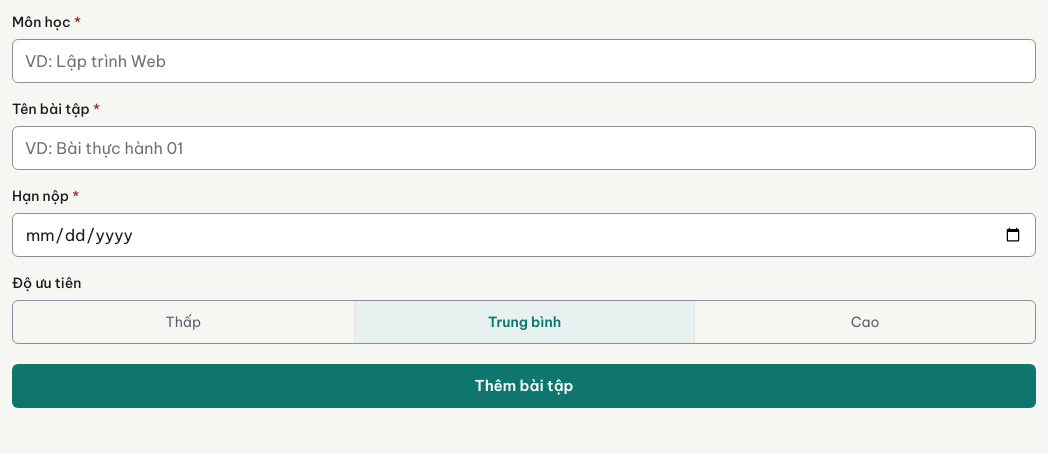
Test: AssignmentForm › submit hợp lệ: thêm bài vào store (đã trim), xoá trắng form, báo đã thêm
The image size is (1048, 454).
Step 1. Type "  Lập trình Web  " into the field labelled "Môn học *" → (524, 61), box [12,39,1036,83]
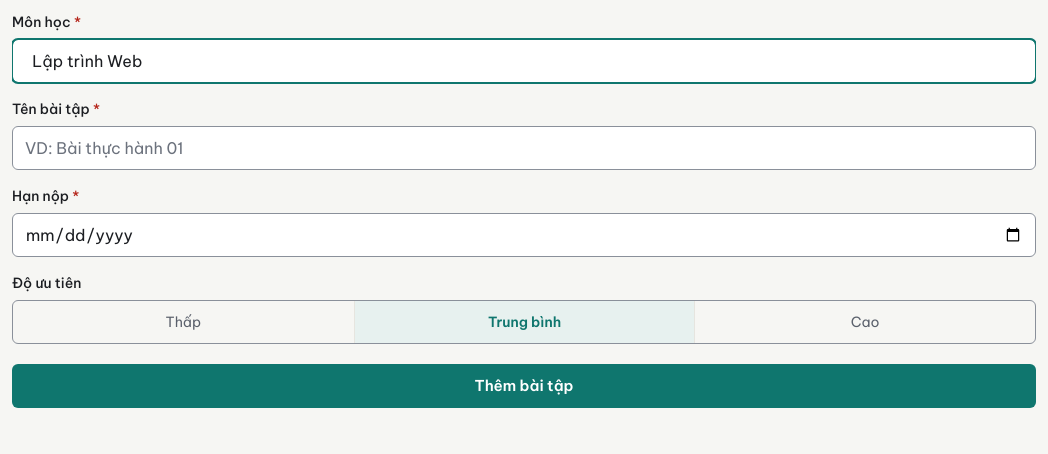
Step 2. Type "Bài thực hành 02" into the field labelled "Tên bài tập *" → (524, 148), box [12,126,1036,170]
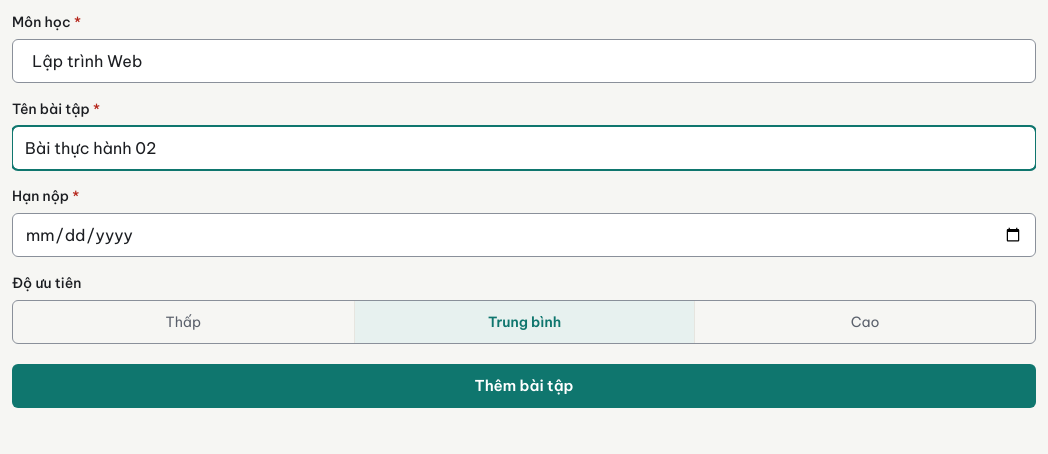
Step 3. Type "2026-12-01" into the date field labelled "Hạn nộp *" → (524, 235), box [12,213,1036,257]
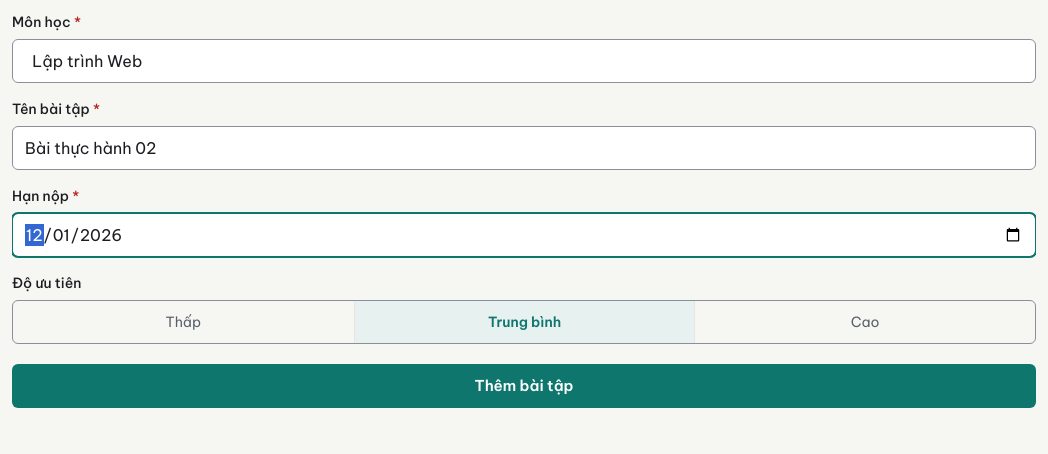
Step 4. Click the radio button labelled "Cao" → (865, 322), box [694,301,1035,343]
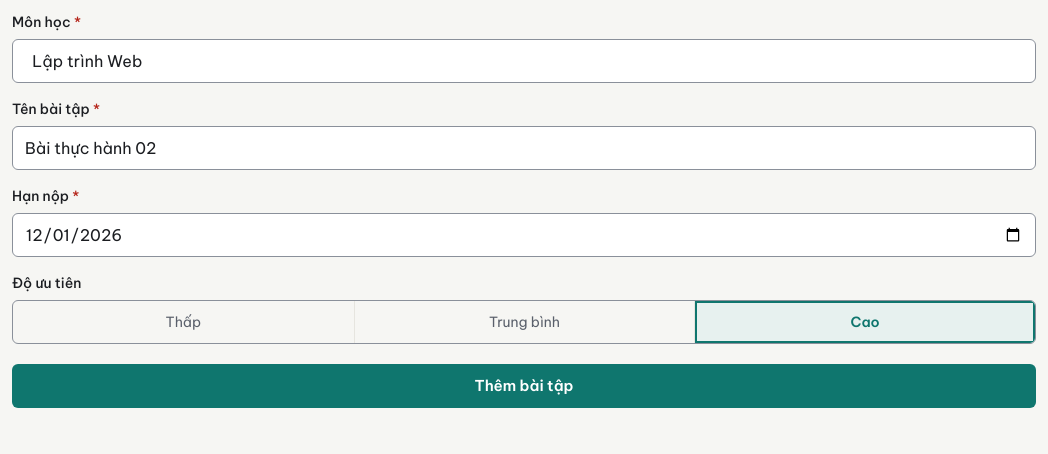
Step 5. Click the button "Thêm bài tập" → (524, 386), box [12,364,1036,408]
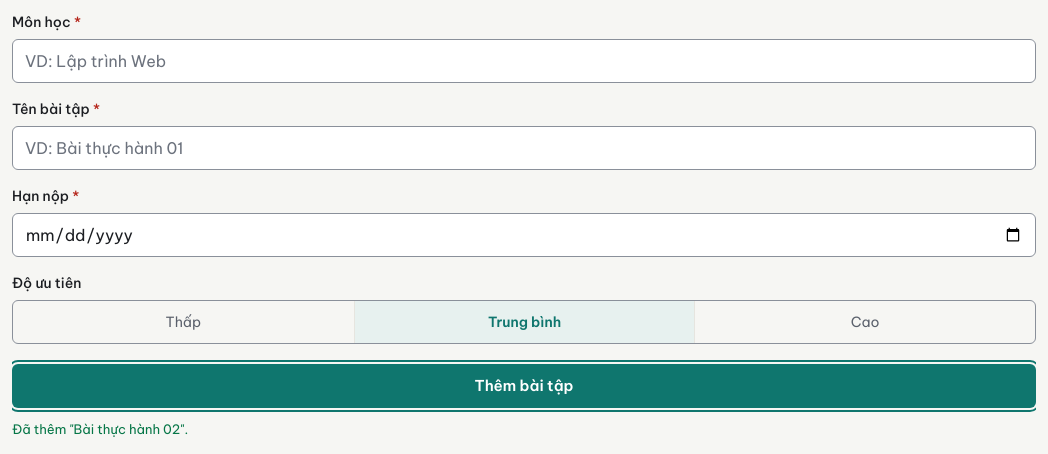
Result: the message reads "Đã thêm \"Bài thực hành 02\"." at [12,421,188,437]
Result: the field labelled "Tên bài tập *" is empty at [12,126,1036,170]
